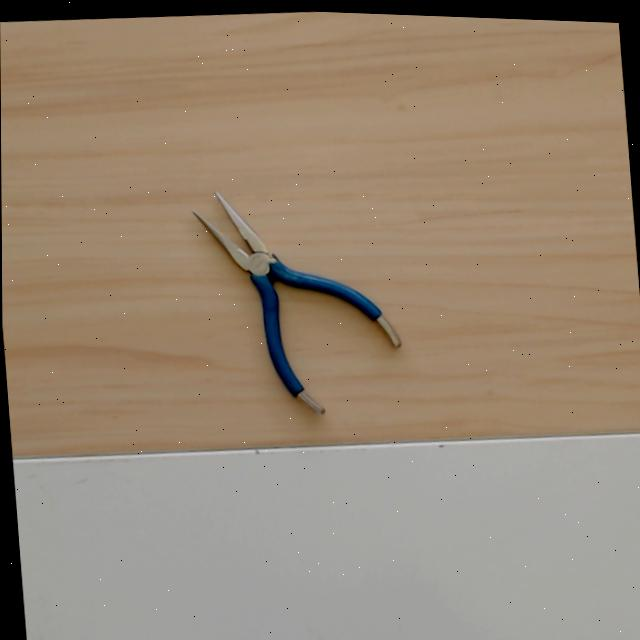Tang-Jepit-Biru: (157, 160, 406, 420)
